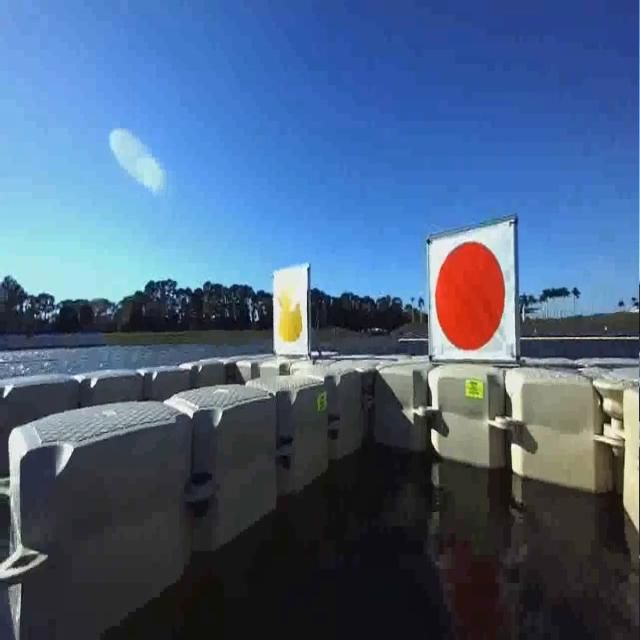red-dot: (429, 238, 508, 354)
yellow-duck: (272, 271, 308, 356)
